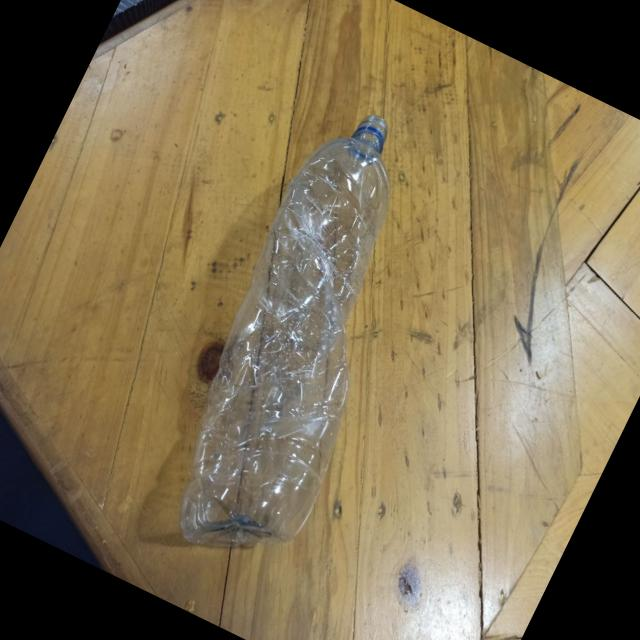BotolPlastik: (128, 91, 482, 584)
